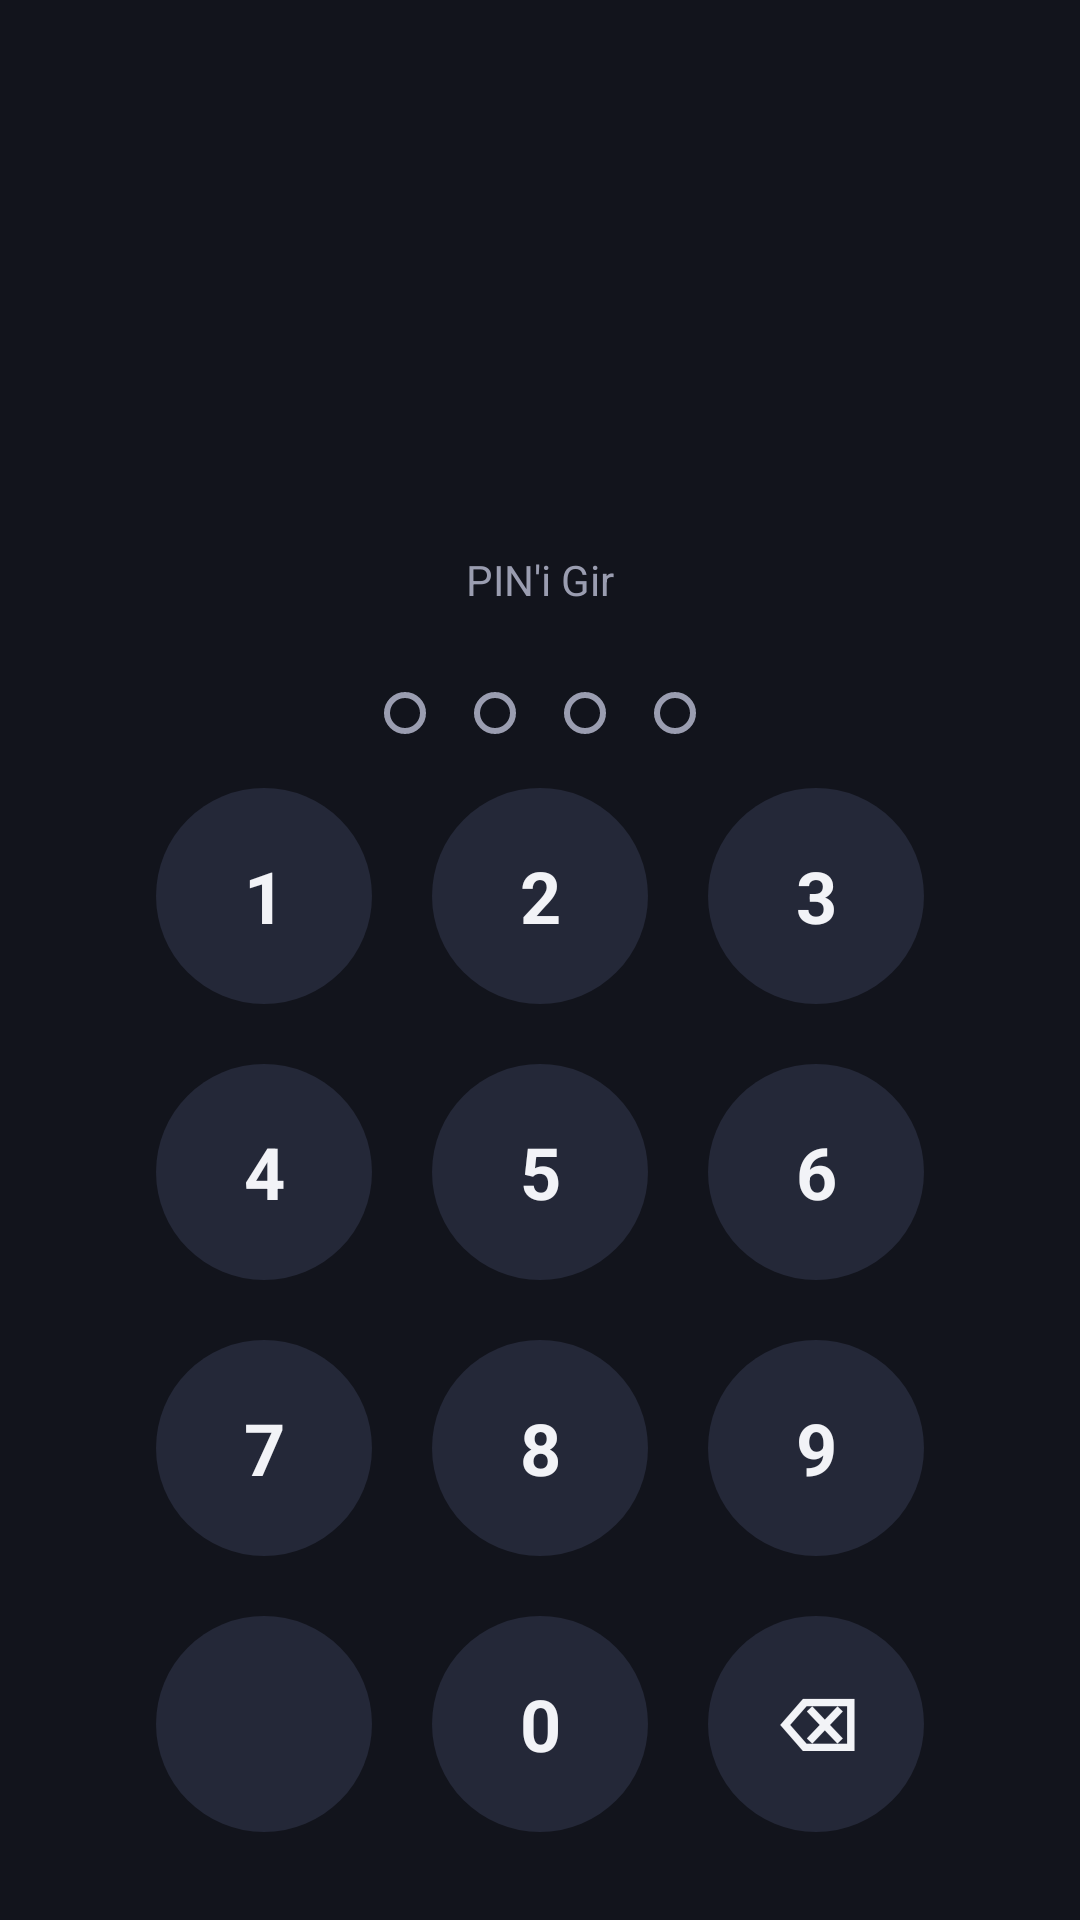

Locate icon controls on the screen. Image size 1080×1920, boxes as (x1, y1, x2, y2).
dot empty: (384, 692, 426, 734), (474, 692, 516, 734), (564, 692, 606, 734), (654, 692, 696, 734)
